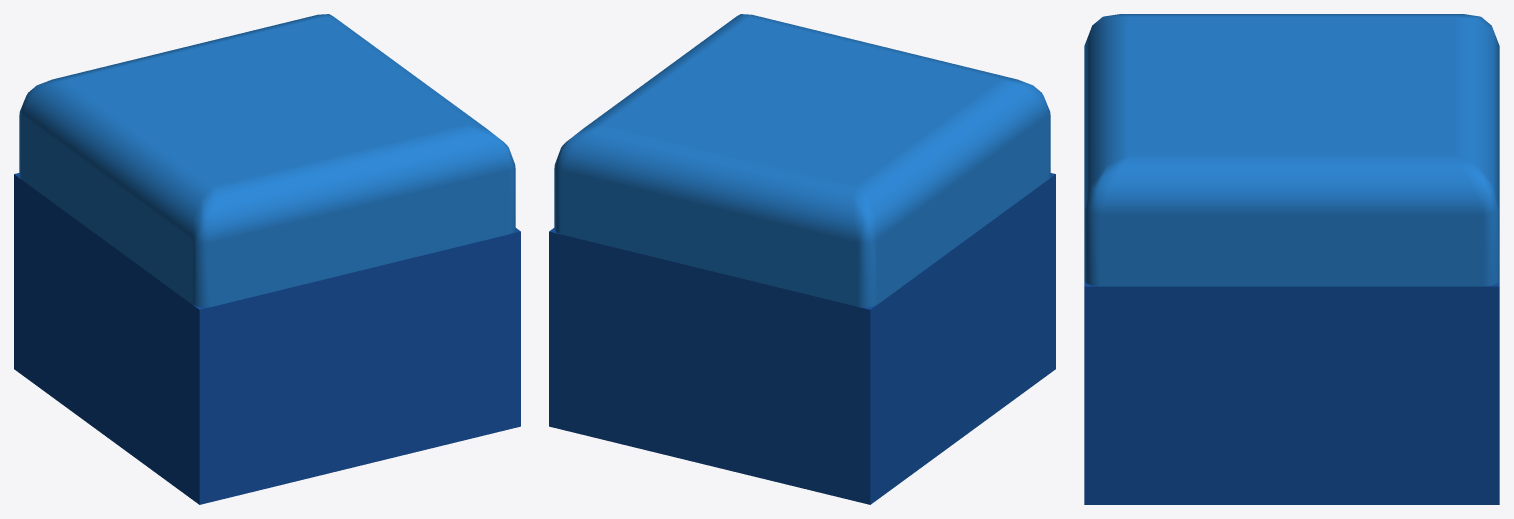
File: Terrain__water.glb
3 renders of one model, left to right at view 1: azimuth 30°, elevation 25°; view 2: azimuth 150°, elevation 25°; view 3: azimuth 270°, elevation 25°, orthographic. The views are drawn at different scales.
Parts seen in each view (by area): view 1: water_mesh; view 2: water_mesh; view 3: water_mesh.
Part boxes in pixels (x1,y1,x2,y2): water_mesh: (14, 14, 520, 504); water_mesh: (549, 14, 1055, 504); water_mesh: (1084, 14, 1499, 504).
Bounding box in the file's own units: 0.5 × 0.44 × 0.5.
